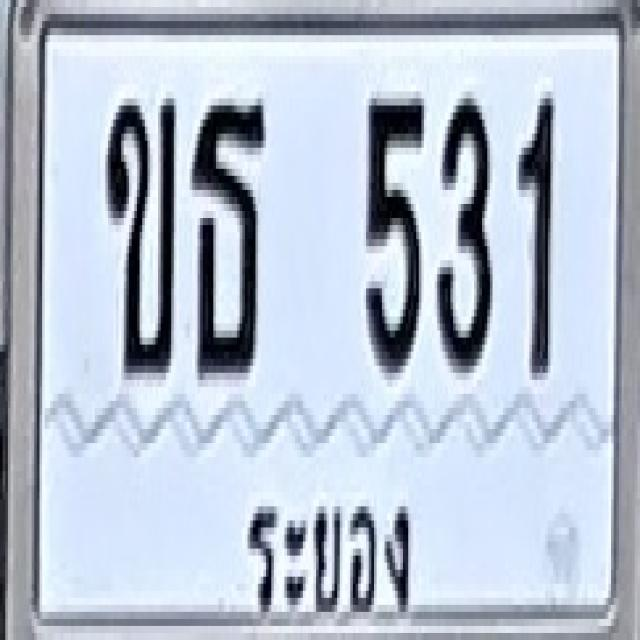1: (516, 91, 553, 380)
3: (436, 91, 491, 373)
5: (363, 91, 424, 373)
A02: (104, 91, 175, 380)
A24: (190, 95, 266, 376)
RYG: (245, 484, 420, 640)
